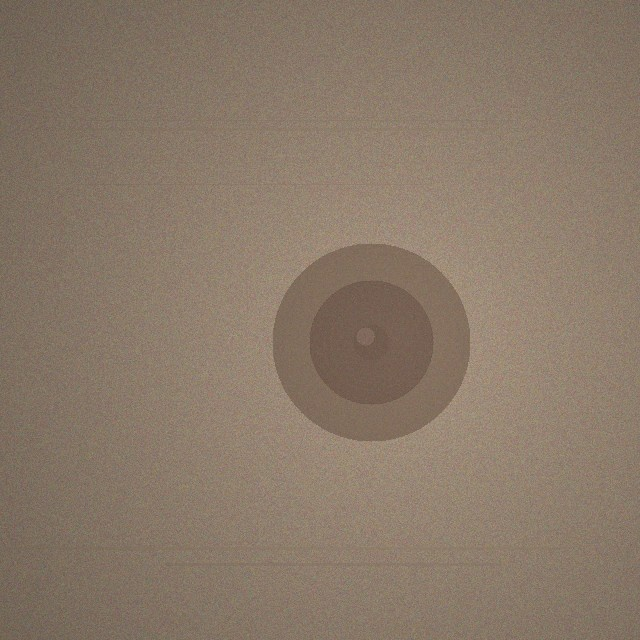good: (272, 243, 470, 441)
